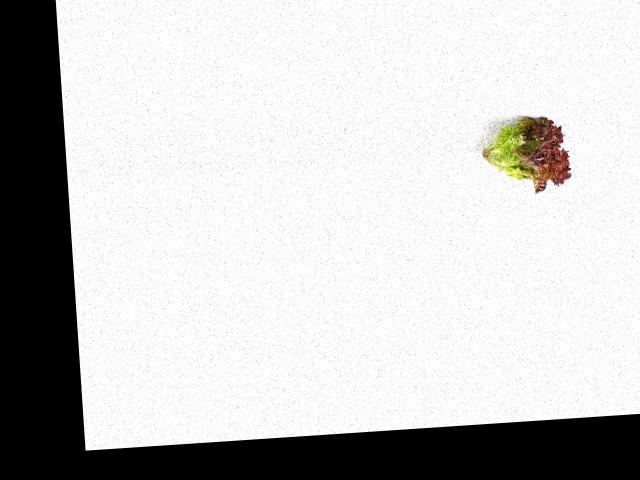lettuce: (468, 112, 576, 194)
